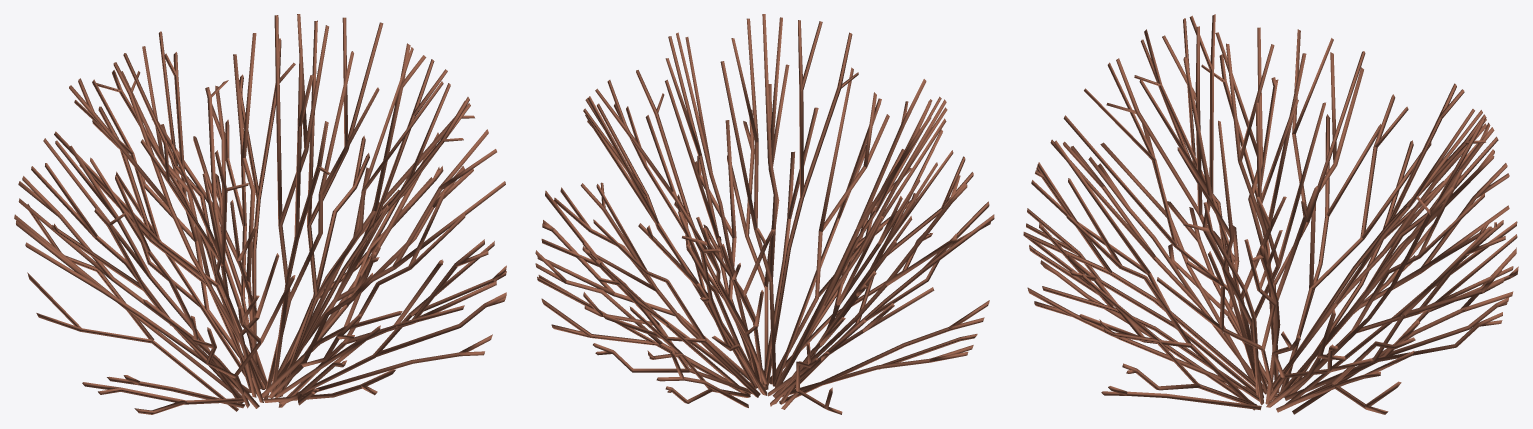
The model's file is shrub_round_01_dead.glb.
3 views of the same model, side by side, from view 1: azimuth 30°, elevation 25°; view 2: azimuth 150°, elevation 25°; view 3: azimuth 270°, elevation 25° (orthographic). The views are drawn at different scales.
Visible parts, largest first — view 1: shrub_round_01_dead; view 2: shrub_round_01_dead; view 3: shrub_round_01_dead.
Boxes of the visible parts, x1,y1,x2,y2 form: shrub_round_01_dead: (14, 14, 506, 414); shrub_round_01_dead: (535, 14, 994, 414); shrub_round_01_dead: (1023, 14, 1518, 414).
Bounding box in the file's own units: 1.47 × 1.28 × 1.49.
